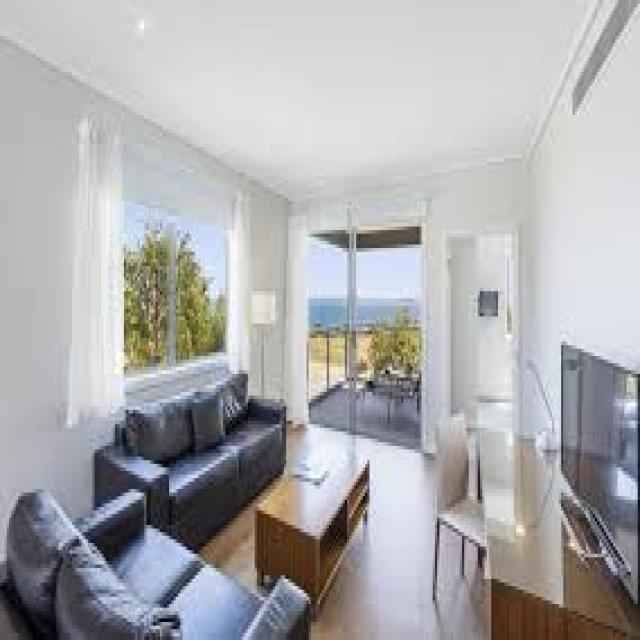Chair: (428, 410, 497, 604)
Sofa: (1, 484, 308, 640), (87, 379, 289, 511)
Table: (252, 451, 374, 597)
tv: (554, 341, 636, 591)
window: (110, 204, 236, 363)
